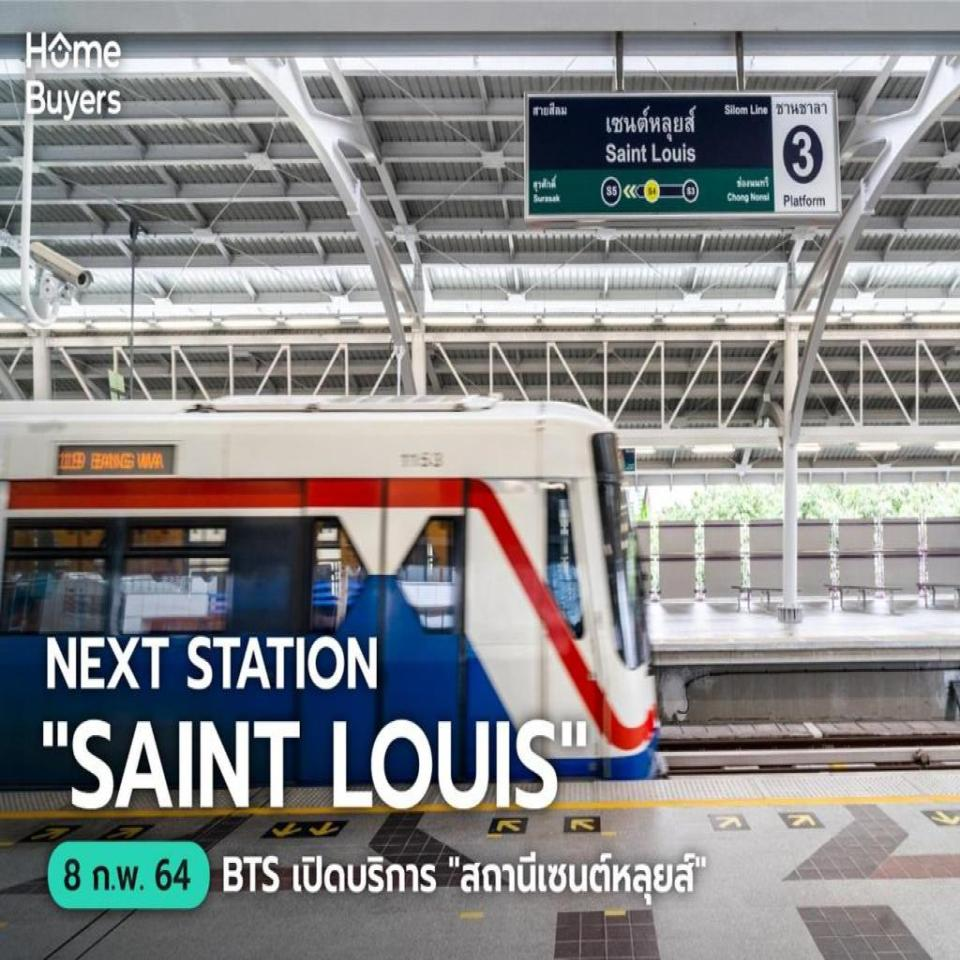Saint Louis: (600, 90, 699, 218)
